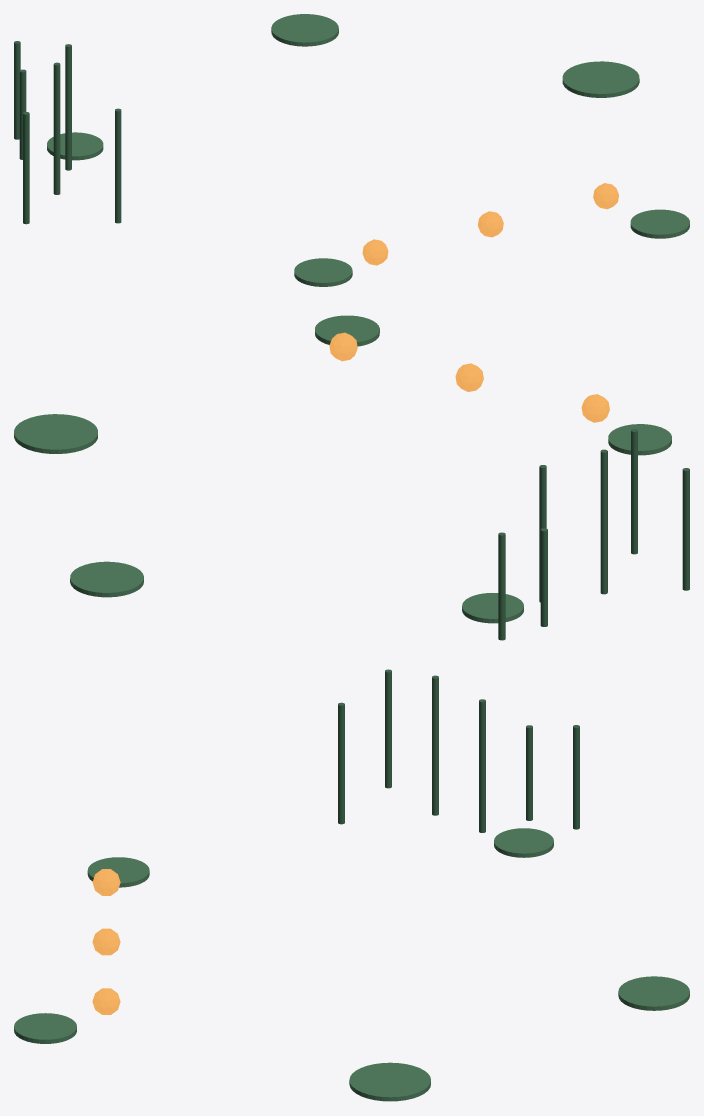
Rendered from lake_props.glb.
3 views of the same model, one above another, from view 1: azimuth 30°, elevation 25°; view 2: azimuth 150°, elevation 25°; view 3: azimuth 270°, elevation 25° (orthographic). The views are drawn at different scales.
Visible parts, largest first — view 1: lily_pad_00, reed_00, float_lantern_00; view 2: lily_pad_00, reed_00, float_lantern_00; view 3: lily_pad_00, reed_00, float_lantern_00.
Boxes of the visible parts, x1=… form: lily_pad_00: x1=47, y1=14, x2=689, y2=286; reed_00: x1=14, y1=41, x2=121, y2=224; float_lantern_00: x1=362, y1=183, x2=618, y2=265; lily_pad_00: x1=14, y1=315, x2=671, y2=623; reed_00: x1=498, y1=429, x2=689, y2=640; float_lantern_00: x1=329, y1=332, x2=609, y2=422; lily_pad_00: x1=14, y1=828, x2=689, y2=1101; reed_00: x1=338, y1=669, x2=579, y2=832; float_lantern_00: x1=92, y1=869, x2=120, y2=1014.
Bounding box in the file's own units: 6.37 × 1.29 × 5.75.
